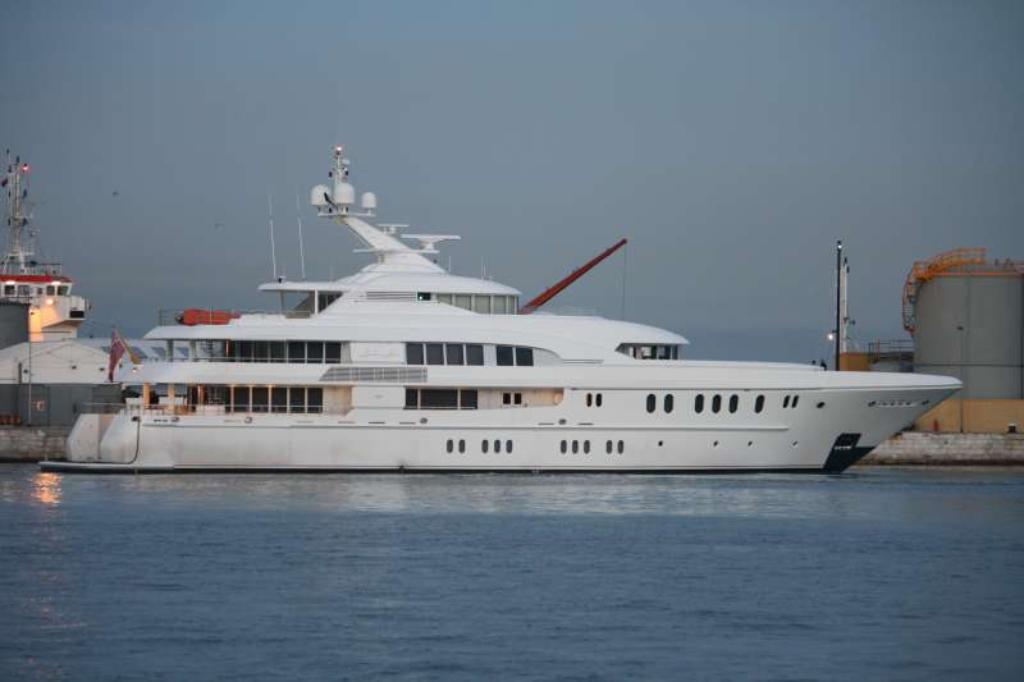PassengerShip: (46, 173, 968, 477)
